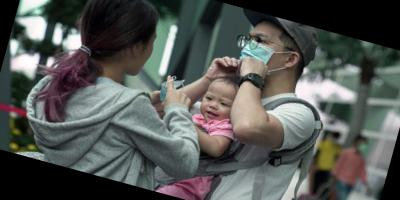with_mask: (234, 25, 291, 86)
without_mask: (195, 90, 237, 129), (128, 30, 159, 81)
